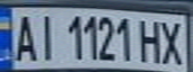1: (60, 11, 84, 61), (115, 15, 136, 62), (81, 12, 100, 61)
2: (97, 12, 118, 62)
A: (9, 10, 39, 63)
H: (136, 16, 163, 64)
I: (33, 10, 60, 62)
X: (157, 17, 190, 65)
